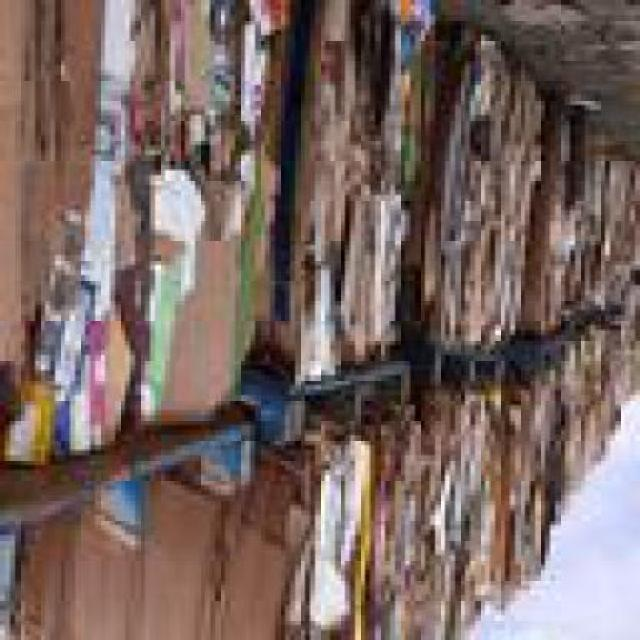cardboard: (5, 6, 280, 411), (4, 444, 316, 638), (280, 6, 445, 371), (426, 31, 551, 360), (310, 416, 436, 638), (420, 400, 531, 638), (540, 105, 611, 340), (515, 369, 580, 600), (571, 351, 626, 486), (604, 149, 638, 300), (620, 309, 638, 402)
